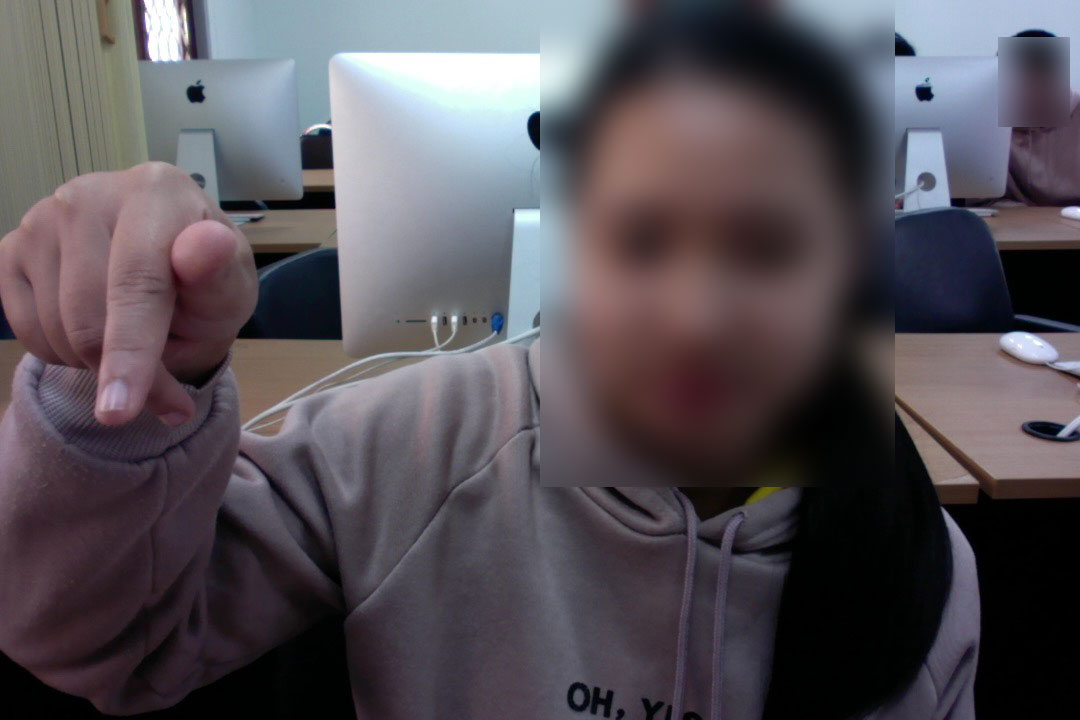por: (0, 142, 264, 433)
